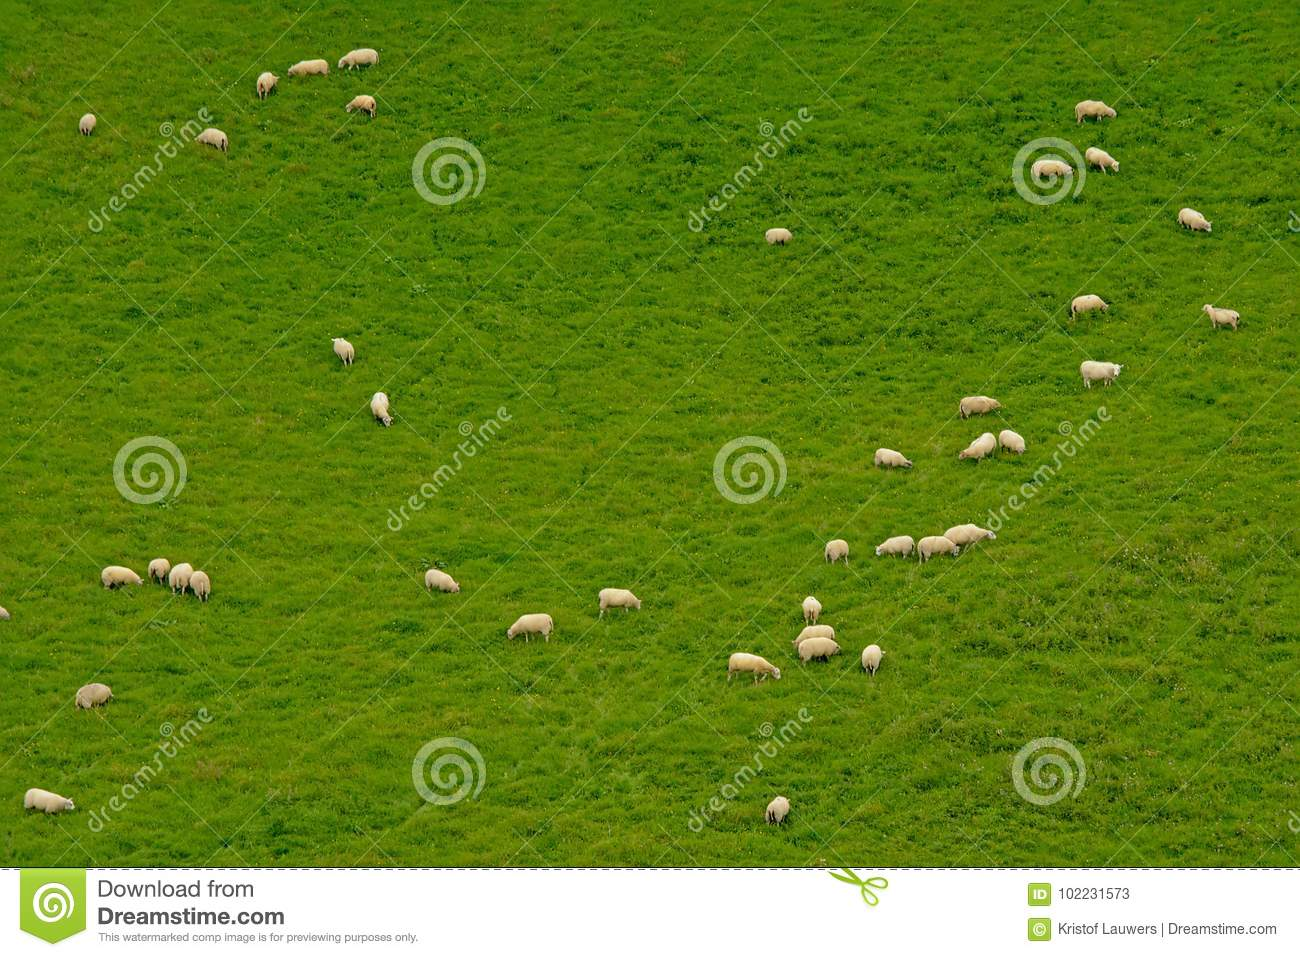sheep: (18, 779, 81, 829), (725, 646, 787, 689), (505, 609, 557, 650), (420, 564, 468, 607), (99, 550, 139, 601), (70, 676, 121, 716), (595, 582, 643, 624), (947, 525, 998, 554), (956, 430, 996, 464), (338, 46, 383, 76), (762, 793, 798, 829), (1202, 303, 1242, 334), (288, 54, 329, 84), (1073, 98, 1118, 125), (917, 534, 959, 563), (1080, 361, 1122, 389), (800, 638, 843, 665), (959, 397, 1001, 423), (1086, 146, 1121, 178), (1177, 205, 1214, 234), (876, 534, 914, 562), (874, 444, 913, 470), (369, 388, 395, 428), (1069, 293, 1110, 317), (194, 124, 229, 152), (328, 331, 356, 365), (255, 70, 279, 104), (859, 645, 883, 677), (346, 95, 377, 119), (824, 537, 851, 564), (764, 222, 794, 246), (1000, 428, 1026, 455), (76, 109, 99, 138), (799, 594, 820, 620)
